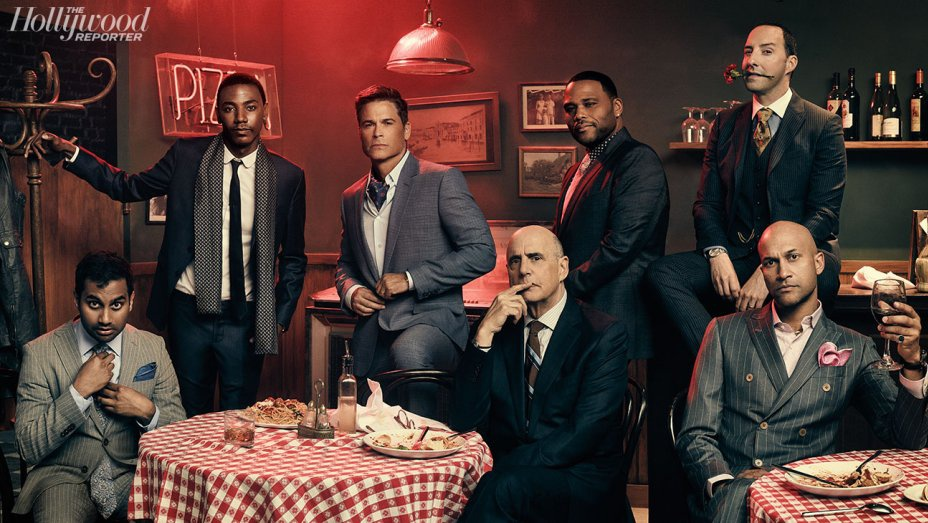bad: (494, 239, 557, 301), (750, 239, 812, 301), (734, 32, 786, 84), (216, 95, 268, 147), (78, 291, 129, 343), (556, 84, 607, 136), (357, 113, 400, 156)
